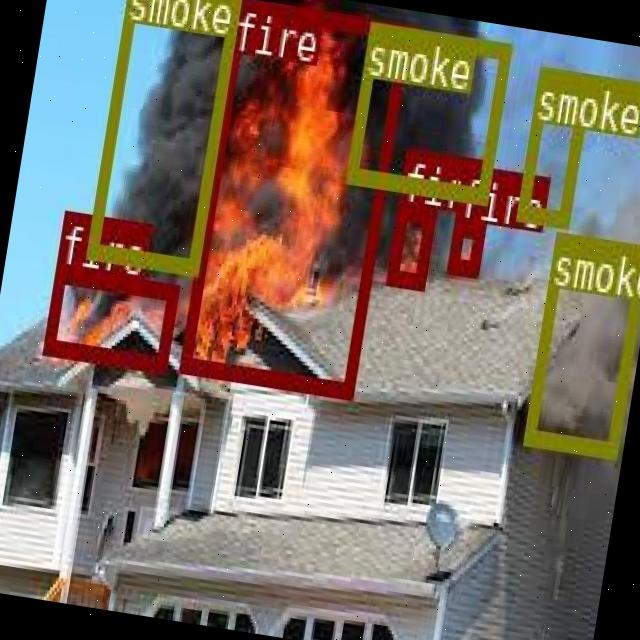fire: (178, 0, 410, 397), (43, 264, 177, 371), (385, 200, 433, 286), (446, 218, 486, 273)
smoke: (86, 0, 241, 270), (345, 19, 510, 199), (523, 228, 640, 454), (516, 64, 590, 224)
